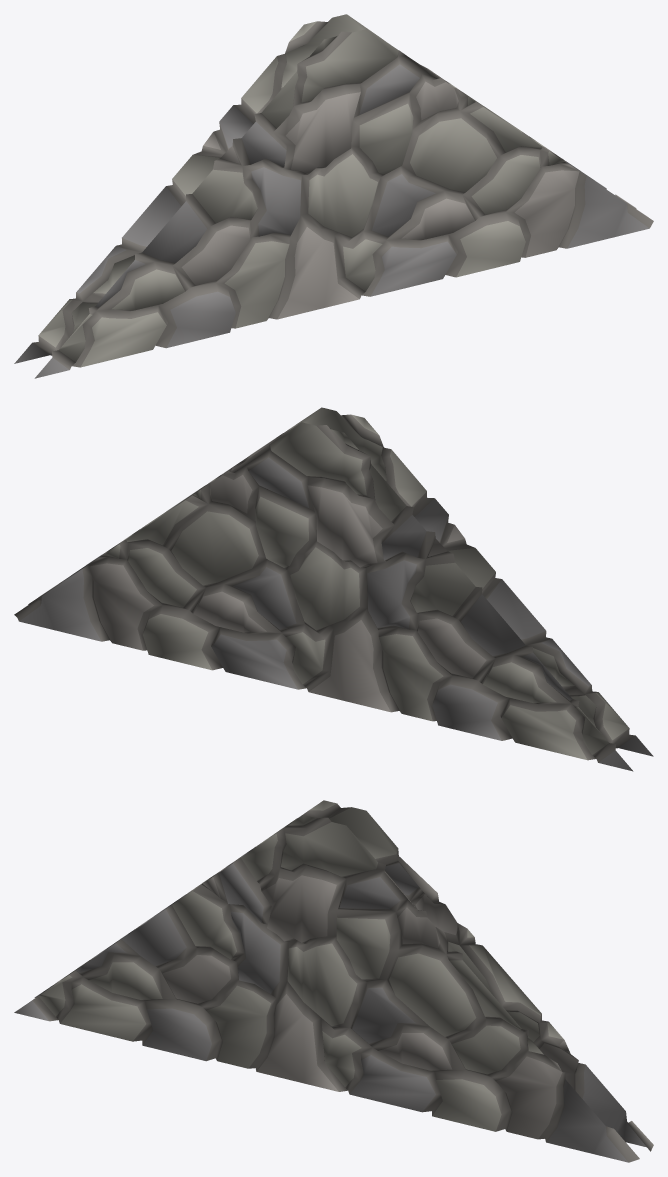
Rendered from rpgpp_ag_roof_end_01_6x3_wall_c.fbx.
The picture shows the model from 3 angles, top to bottom: view 1: azimuth 30°, elevation 25°; view 2: azimuth 150°, elevation 25°; view 3: azimuth 330°, elevation 25°; orthographic projection.
Visible parts, largest first — view 1: rpgpp_ag_roof_end_01_6x3_wall_c; view 2: rpgpp_ag_roof_end_01_6x3_wall_c; view 3: rpgpp_ag_roof_end_01_6x3_wall_c.
Part boxes in pixels (bbox=[...]): rpgpp_ag_roof_end_01_6x3_wall_c: bbox=[14, 14, 653, 378]; rpgpp_ag_roof_end_01_6x3_wall_c: bbox=[14, 407, 653, 771]; rpgpp_ag_roof_end_01_6x3_wall_c: bbox=[14, 800, 653, 1162].
Size of the model in its own units: 6.45 by 2.66 by 0.4229.
